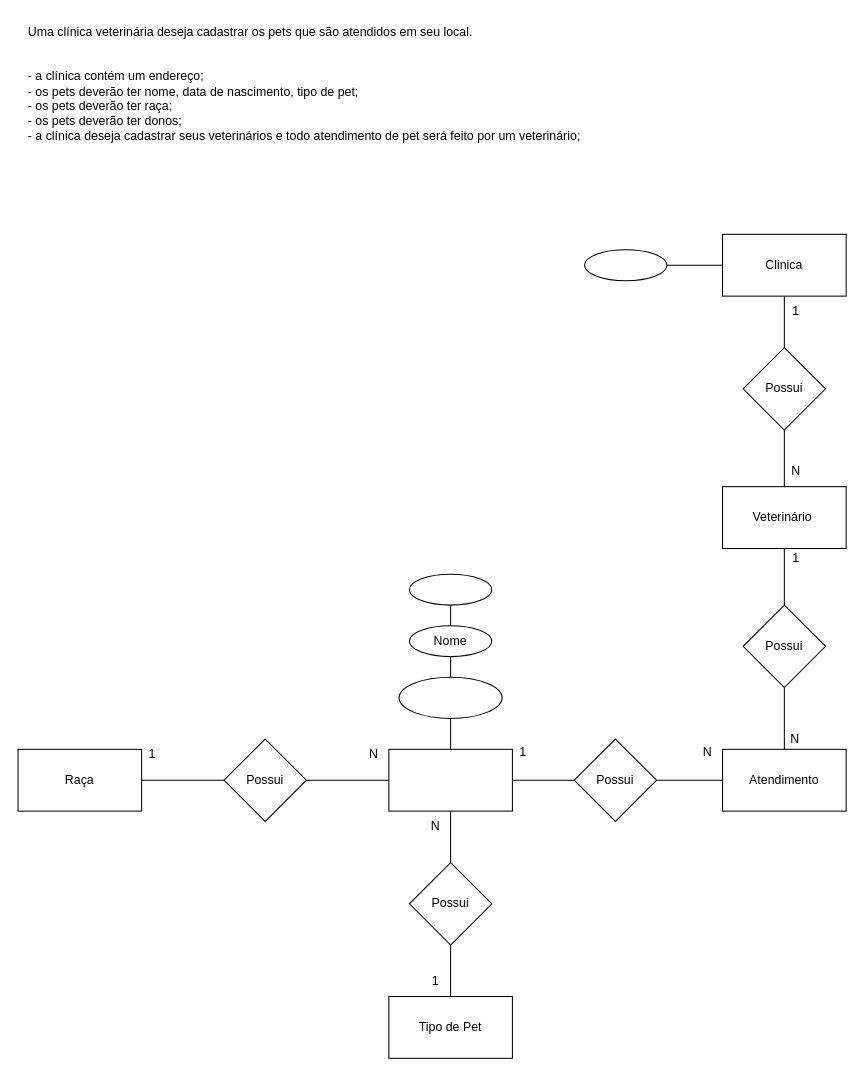
This 864x1076 diagram has some shape labels left out. The shapes that lost their labels are listed below. From the top down, each one's centre as x and y in pixels, then its label:
the point at 625,265: Endereço
the point at 450,589: Dono
the point at 450,697: Data de nascimento
the point at 450,779: Pet
